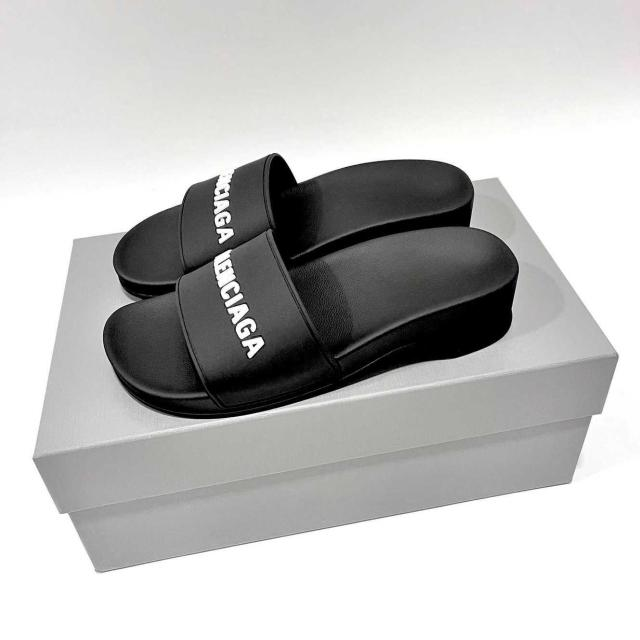Sandals: (82, 143, 531, 449)
